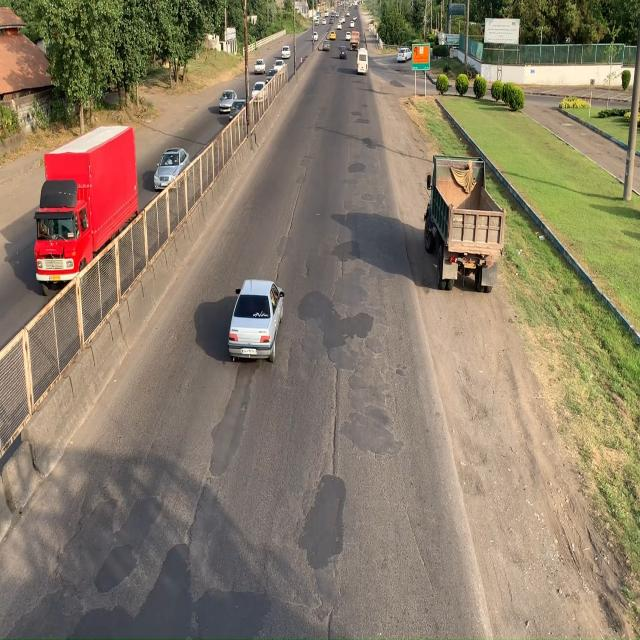Truck: (35, 128, 133, 282), (424, 156, 508, 298)
cars: (225, 274, 285, 365), (154, 148, 190, 190)
